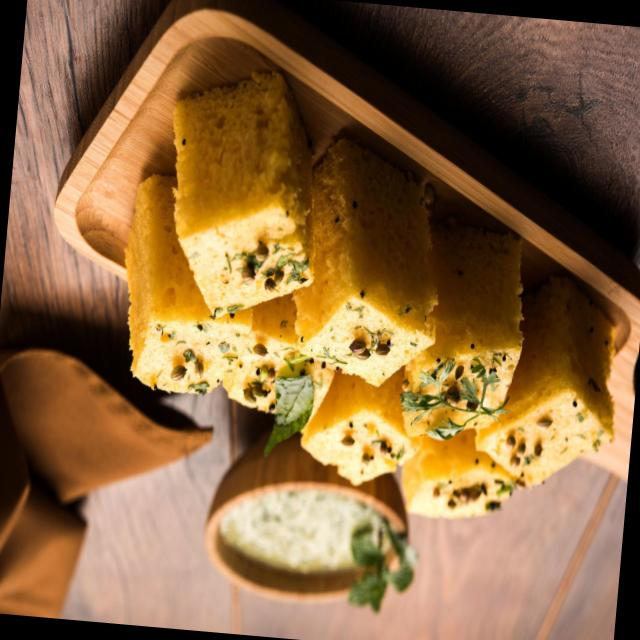dhokla: (85, 90, 640, 491)
